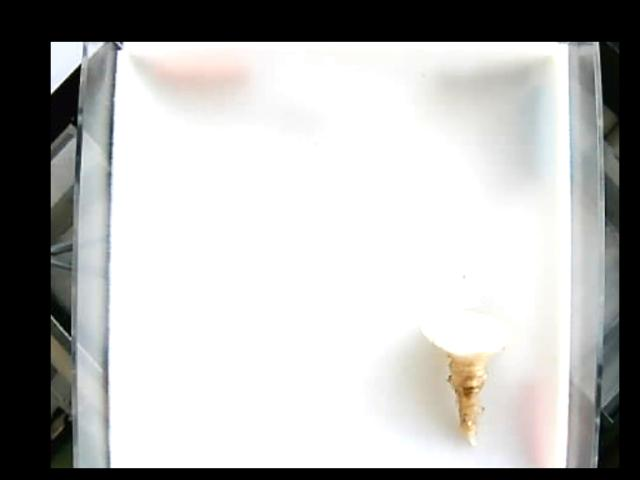Mooli: (421, 313, 514, 449)
